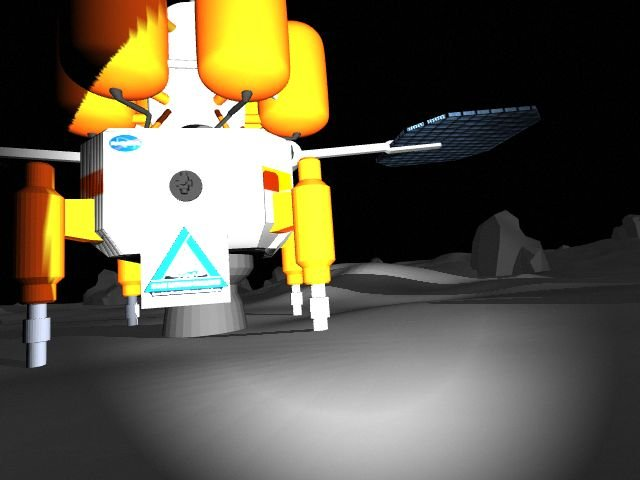basemarker: (143, 225, 229, 294)
